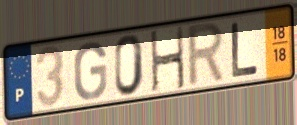0: (112, 33, 145, 98)
3: (34, 43, 68, 110)
G: (72, 40, 108, 102)
H: (148, 24, 187, 95)
L: (229, 20, 261, 80)
R: (186, 20, 227, 91)
